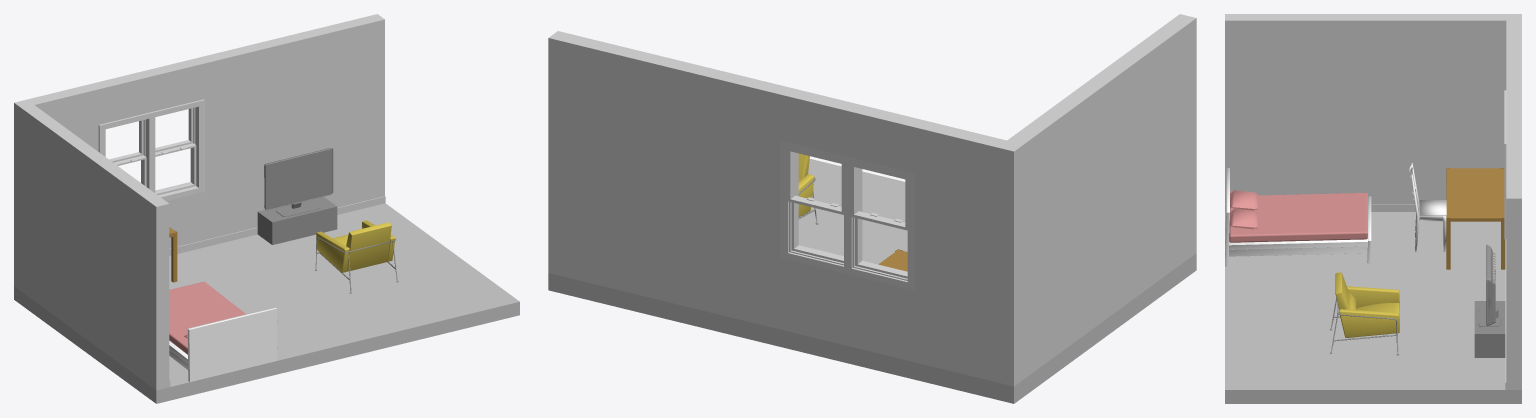
File: L12_W18_furniture3_privacy2.glb
3 renders of one model, left to right at view 1: azimuth 30°, elevation 25°; view 2: azimuth 150°, elevation 25°; view 3: azimuth 270°, elevation 25°, orthographic. The views are drawn at different scales.
Size of the model in its own units: 224 by 116 by 152.
